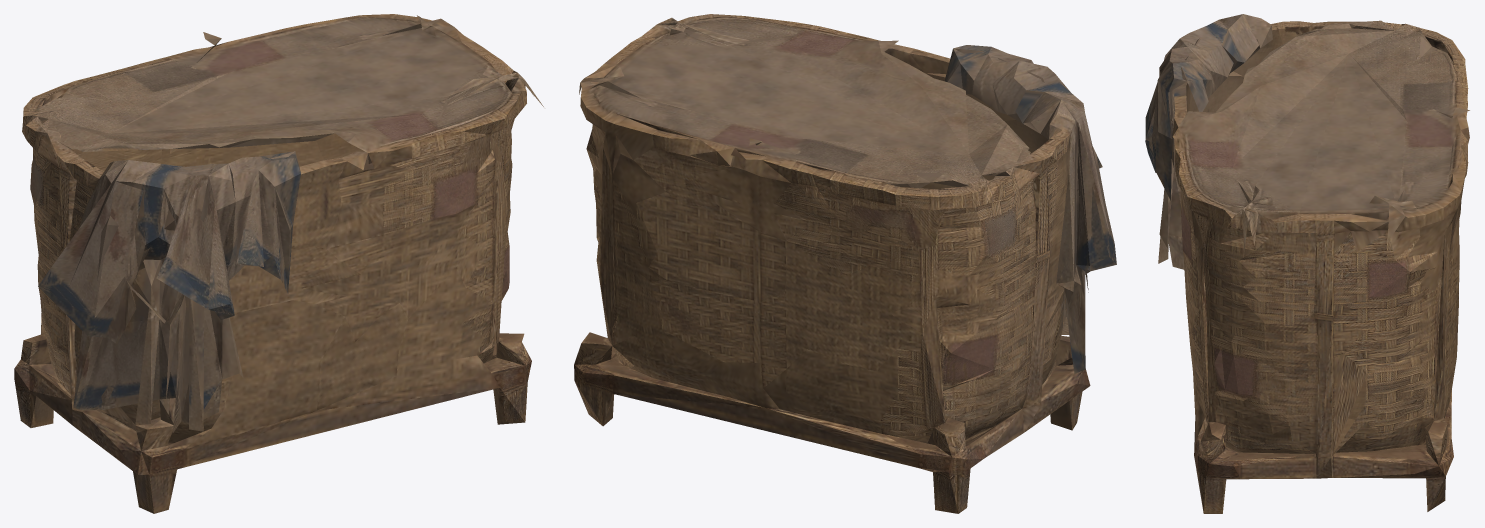
The model's file is robe-hamper.glb.
3 views of the same model, side by side, from view 1: azimuth 30°, elevation 25°; view 2: azimuth 150°, elevation 25°; view 3: azimuth 270°, elevation 25° (orthographic). The views are drawn at different scales.
Parts seen in each view (by area): view 1: output_unwrapped; view 2: output_unwrapped; view 3: output_unwrapped.
Boxes of the visible parts, x1,y1,x2,y2 form: output_unwrapped: (14,14,543,513); output_unwrapped: (574,14,1116,513); output_unwrapped: (1145,14,1469,513).
Size of the model in its own units: 1.5 by 1 by 0.9057.
Materials: 1 (1 with a texture image).
